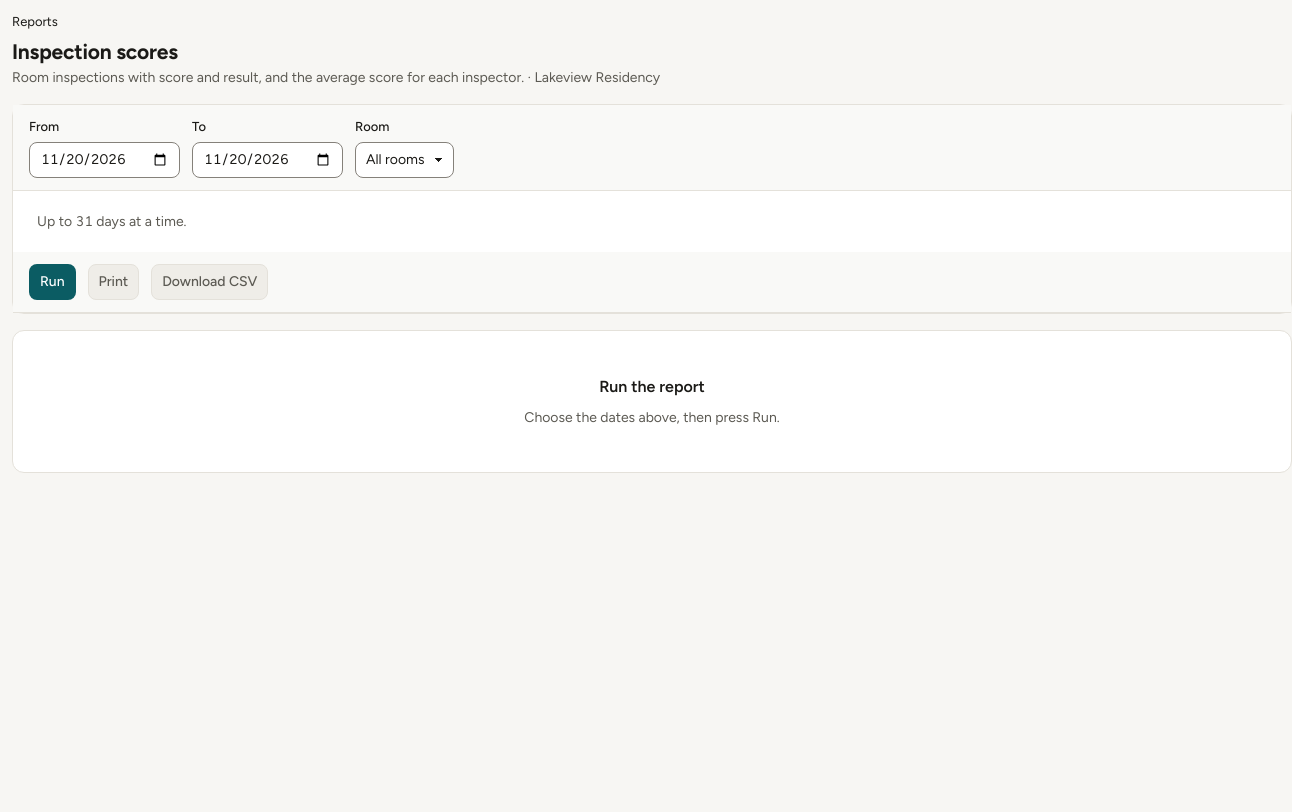
ReportRunnerScreen: Part C night audit and housekeeping › a viewer who cannot read the roster gets no inspector filter and a word for every person
The image size is (1292, 812).
Expected: the date field labelled "From" holds "2026-11-20", x1=29 y1=142 x2=180 y2=178
Step 1. Click the button with test id "report-run" → (52, 282), box x1=29 y1=264 x2=76 y2=300
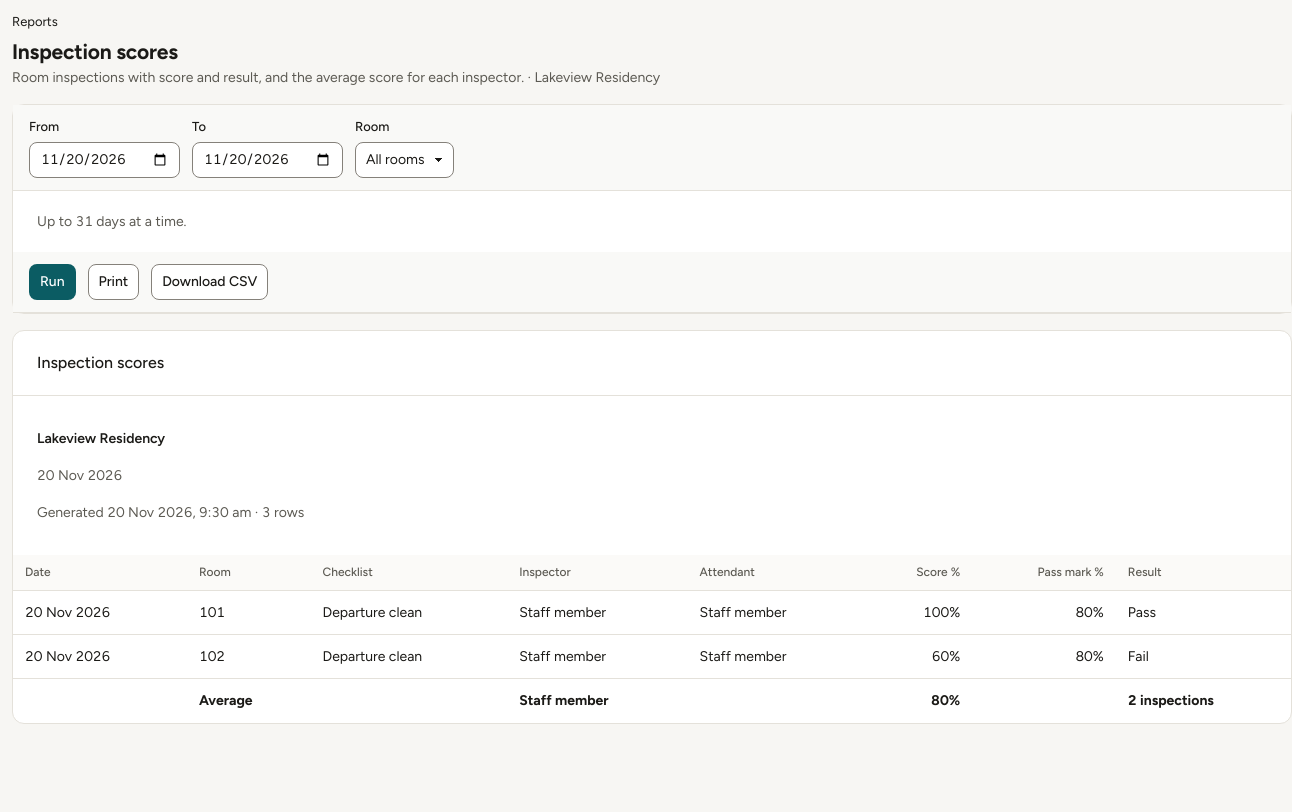
Now the element with test id "report-card" is shown, box x1=13 y1=331 x2=1291 y2=723
Now the 1st text "Staff member" is shown, box x1=519 y1=604 x2=606 y2=621
